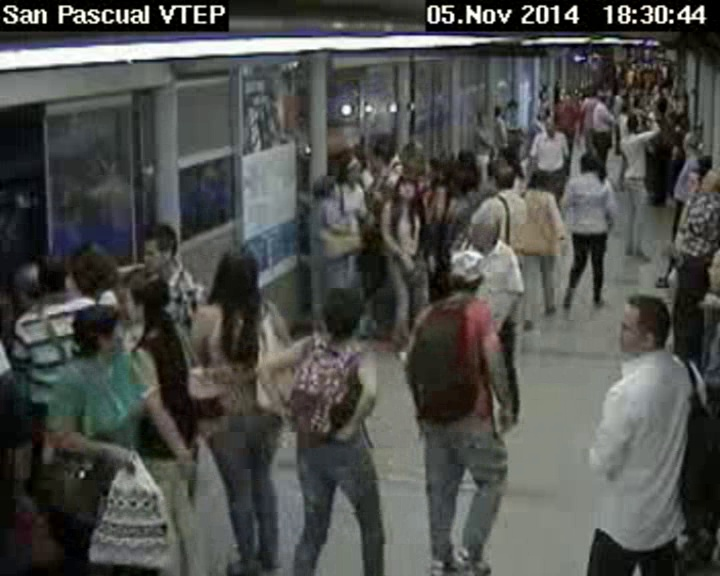person: (617, 289, 673, 358), (316, 280, 376, 342), (68, 302, 125, 360), (72, 241, 127, 298), (126, 273, 173, 331), (216, 240, 255, 309), (137, 216, 182, 270), (445, 245, 484, 302), (33, 247, 76, 298), (307, 169, 346, 208), (334, 148, 362, 182), (395, 171, 418, 209), (490, 160, 515, 190), (576, 150, 602, 178), (374, 138, 396, 169), (700, 164, 720, 196), (683, 165, 704, 195), (449, 167, 465, 192), (458, 148, 474, 169), (625, 113, 639, 134), (545, 115, 556, 140), (491, 104, 505, 121), (674, 113, 691, 126), (475, 110, 487, 128), (506, 98, 520, 112), (561, 93, 574, 106), (598, 93, 610, 106), (694, 123, 705, 137)
